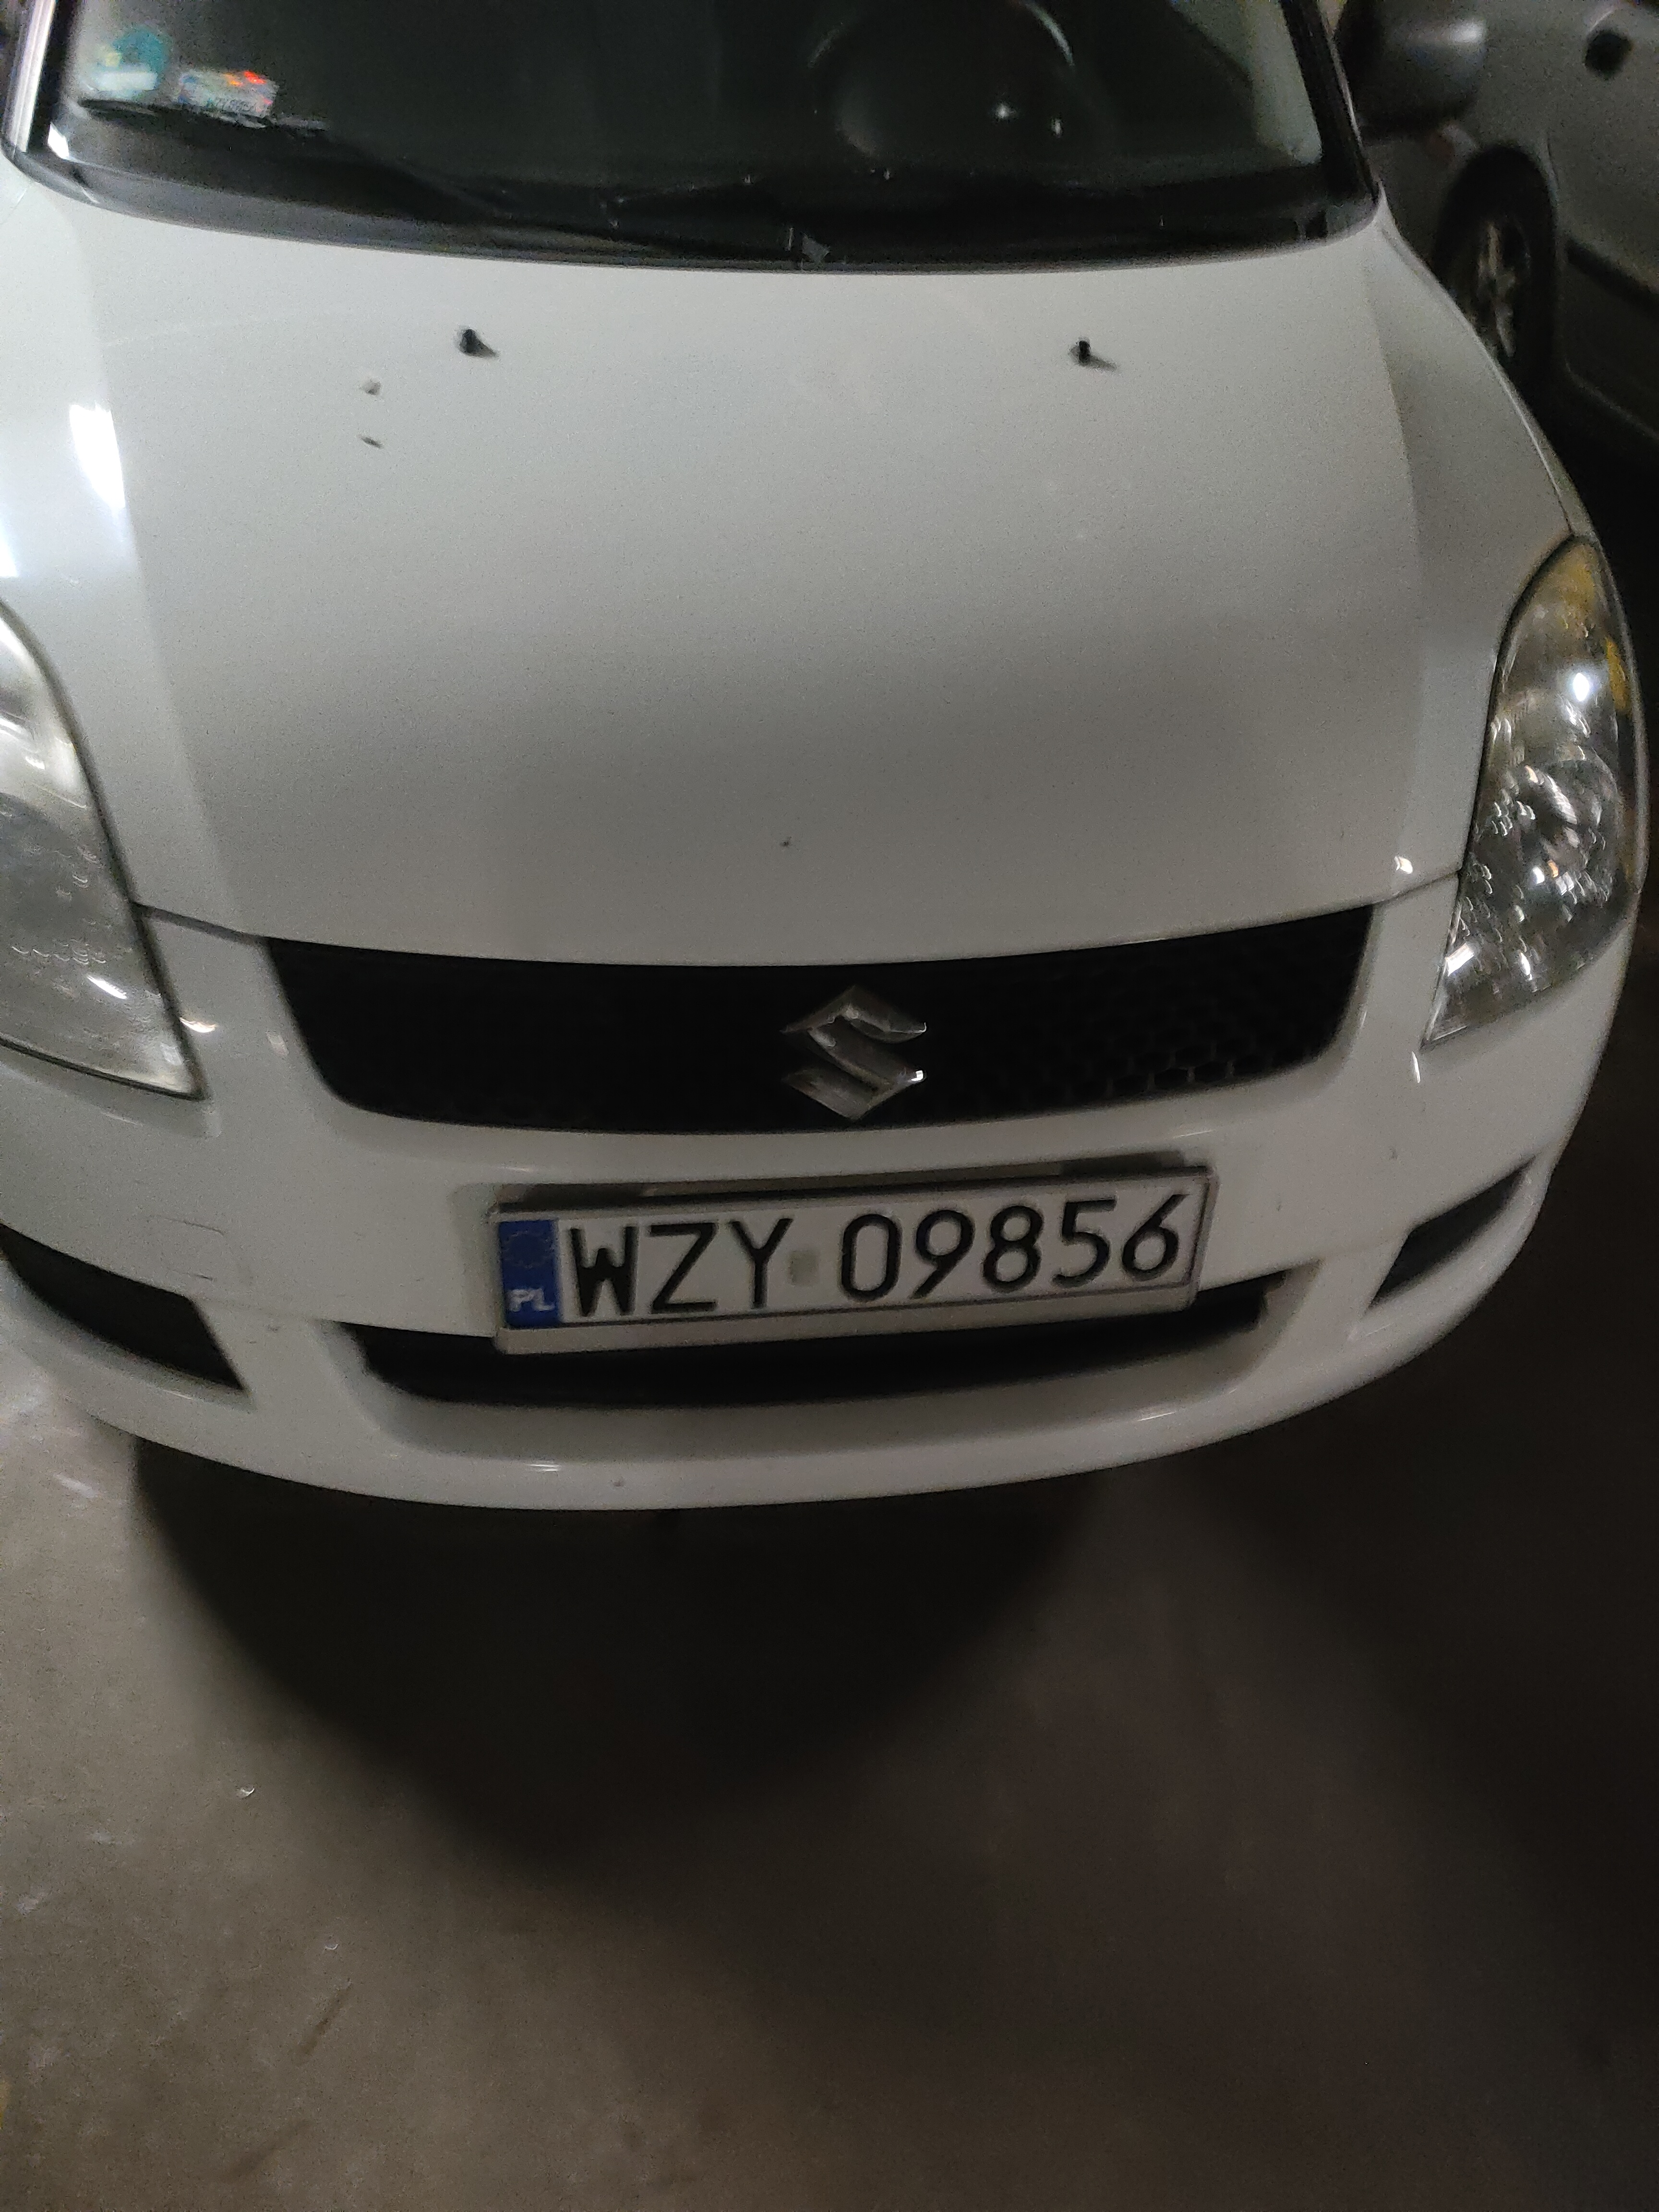number_plate: (493, 1166, 1214, 1348)
